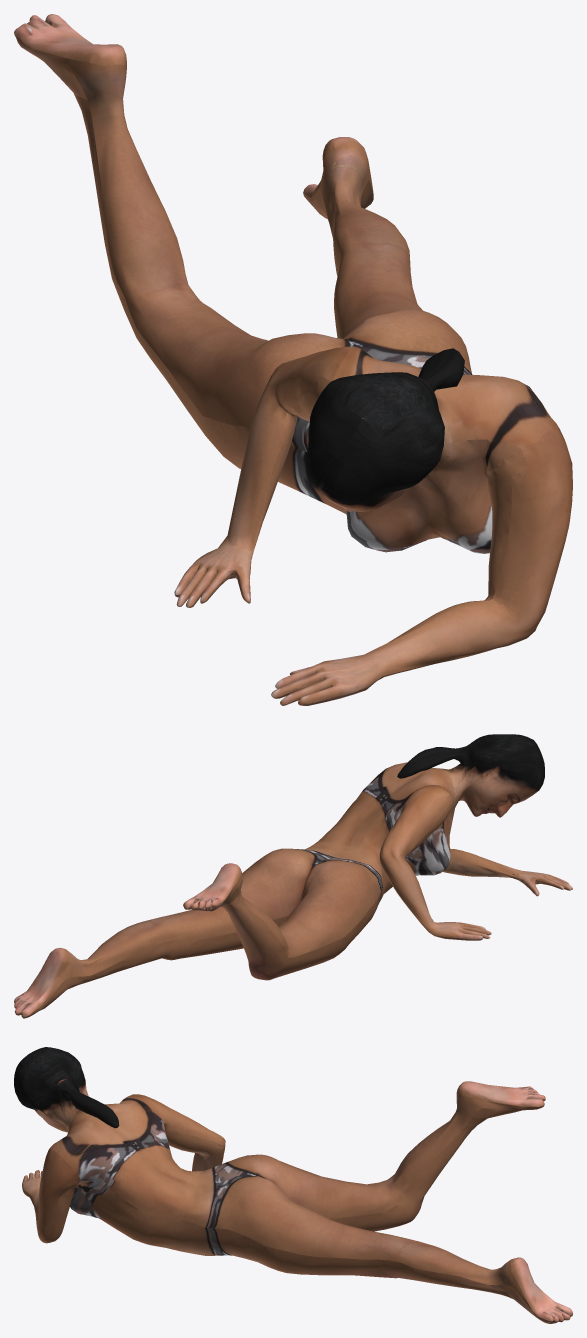
The model's file is woman3.FBX.
3 renders of one model, top to bottom at view 1: azimuth 30°, elevation 25°; view 2: azimuth 150°, elevation 25°; view 3: azimuth 270°, elevation 25°, orthographic. The views are drawn at different scales.
Parts seen in each view (by area): view 1: SWom0004-S; view 2: SWom0004-S; view 3: SWom0004-S.
Boxes of the visible parts, x1,y1,x2,y2 form: SWom0004-S: [14, 14, 572, 705]; SWom0004-S: [14, 734, 572, 1018]; SWom0004-S: [14, 1047, 572, 1323].
Size of the model in its own units: 40.44 by 19.91 by 63.75.
